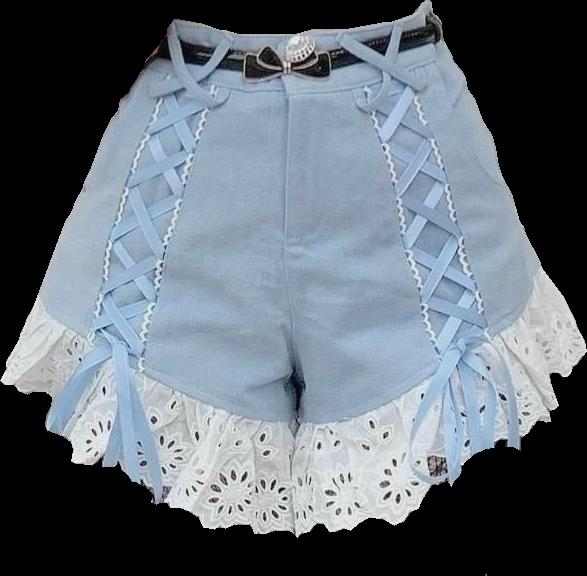Hemline: (288, 347, 586, 536), (0, 379, 290, 536)
Pantleg: (284, 0, 586, 537), (1, 19, 300, 534)
Waistline: (298, 262, 544, 429), (36, 294, 303, 429), (144, 49, 451, 94), (175, 5, 430, 39)
